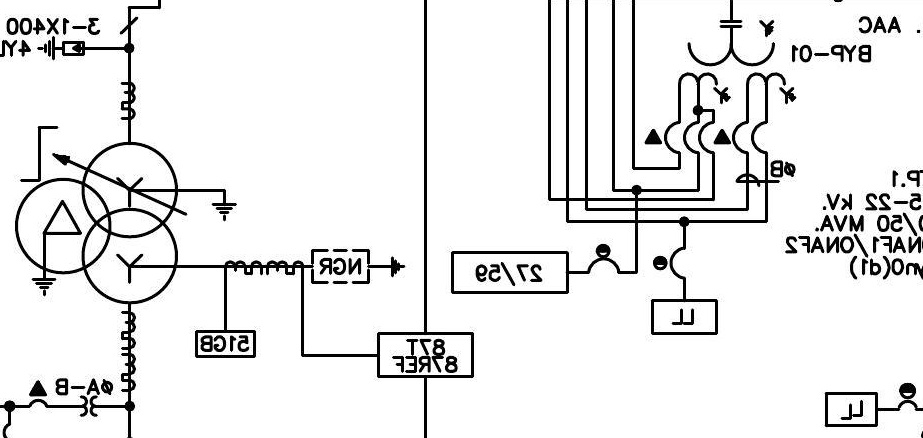11522_tx_ynyn0d1: (14, 141, 181, 305)
115_cvt_3p: (677, 20, 797, 105)
115_la: (36, 35, 85, 61)
LL: (651, 299, 718, 335), (825, 392, 878, 428)
NGR_future: (311, 248, 406, 285)
